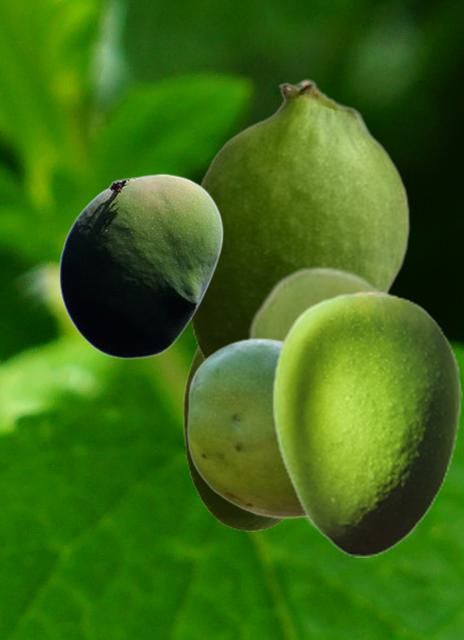green_mango: (188, 78, 409, 359), (271, 290, 461, 556), (243, 265, 381, 530), (58, 173, 223, 358), (186, 337, 306, 518), (182, 345, 288, 530)
